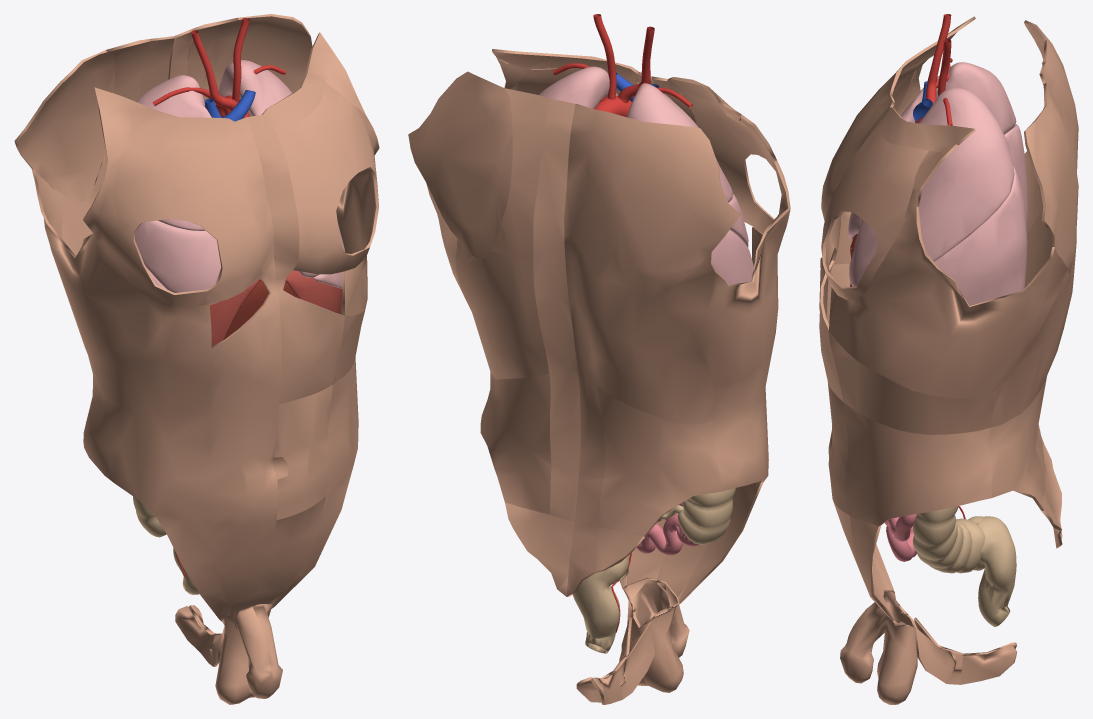
The picture shows the model from 3 angles, left to right: view 1: azimuth 30°, elevation 25°; view 2: azimuth 150°, elevation 25°; view 3: azimuth 270°, elevation 25°; orthographic projection. The views are drawn at different scales.
Parts seen in each view (by area): view 1: regions.torso_surface, visceral.middle_lobe_of_right_lung, muscular.diaphragm, visceral.superior_lobe_of_right_lung, visceral.superior_lobe_of_left_lung, visceral.liver, cardiovascular.left_common_carotid_artery, visceral.ascending_colon, cardiovascular.right_common_carotid_artery; view 2: regions.torso_surface, visceral.sigmoid_colon, visceral.ascending_colon, visceral.superior_lobe_of_right_lung, visceral.superior_lobe_of_left_lung, visceral.inferior_lobe_of_right_lung, visceral.ileum, cardiovascular.left_common_carotid_artery; view 3: regions.torso_surface, visceral.superior_lobe_of_left_lung, visceral.inferior_lobe_of_left_lung, visceral.descending_colon, visceral.sigmoid_colon, visceral.superior_lobe_of_right_lung, visceral.ileum, visceral.inferior_lobe_of_right_lung, cardiovascular.right_common_carotid_artery, cardiovascular.left_common_carotid_artery.
Boxes of the visible parts, left/top/right/bottom form: regions.torso_surface: left=14, top=14, right=379, bottom=704; visceral.middle_lobe_of_right_lung: left=135, top=220, right=221, bottom=304; muscular.diaphragm: left=209, top=270, right=342, bottom=346; visceral.superior_lobe_of_right_lung: left=136, top=75, right=211, bottom=230; visceral.superior_lobe_of_left_lung: left=218, top=60, right=319, bottom=277; visceral.liver: left=225, top=280, right=297, bottom=338; cardiovascular.left_common_carotid_artery: left=232, top=18, right=249, bottom=102; visceral.ascending_colon: left=133, top=496, right=166, bottom=537; cardiovascular.right_common_carotid_artery: left=191, top=30, right=219, bottom=100; regions.torso_surface: left=408, top=49, right=790, bottom=704; visceral.sigmoid_colon: left=572, top=555, right=629, bottom=653; visceral.ascending_colon: left=677, top=488, right=735, bottom=544; visceral.superior_lobe_of_right_lung: left=626, top=83, right=732, bottom=202; visceral.superior_lobe_of_left_lung: left=539, top=66, right=618, bottom=108; visceral.inferior_lobe_of_right_lung: left=711, top=230, right=753, bottom=284; visceral.ileum: left=636, top=502, right=699, bottom=555; cardiovascular.left_common_carotid_artery: left=593, top=14, right=616, bottom=99; regions.torso_surface: left=819, top=16, right=1078, bottom=704; visceral.superior_lobe_of_left_lung: left=849, top=87, right=1014, bottom=286; visceral.inferior_lobe_of_left_lung: left=934, top=165, right=1027, bottom=305; visceral.descending_colon: left=912, top=506, right=985, bottom=573; visceral.sigmoid_colon: left=976, top=516, right=1016, bottom=626; visceral.superior_lobe_of_right_lung: left=900, top=62, right=1016, bottom=134; visceral.ileum: left=885, top=514, right=917, bottom=561; visceral.inferior_lobe_of_right_lung: left=1004, top=124, right=1027, bottom=226; cardiovascular.right_common_carotid_artery: left=927, top=14, right=951, bottom=86; cardiovascular.left_common_carotid_artery: left=937, top=38, right=951, bottom=96.
Bounding box in the file's own units: 0.3866 × 0.763 × 0.2682.
